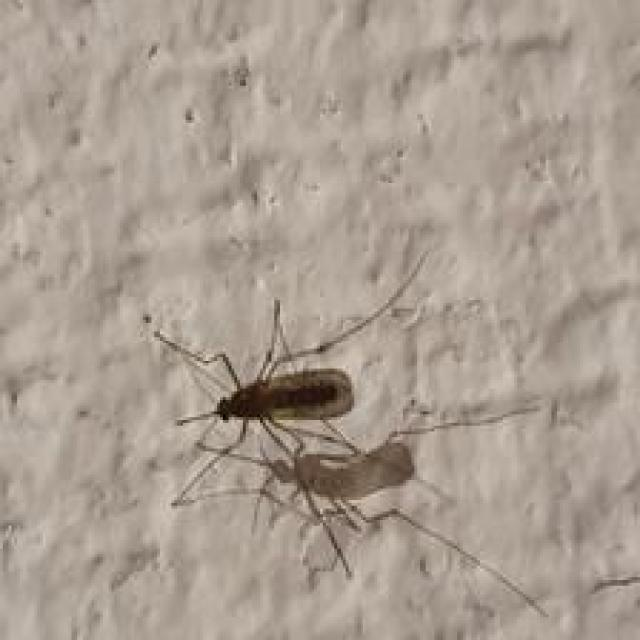Culex: (150, 247, 550, 619)
